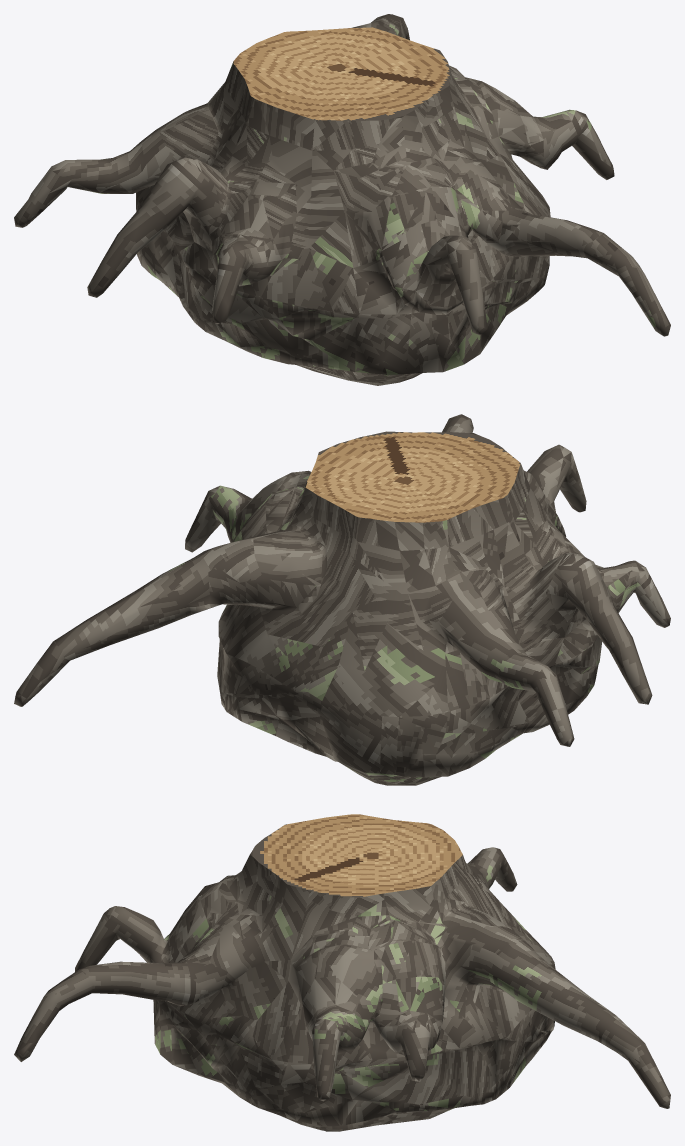
Rendered from environment_elm1_stump_v31.fbx.
3 renders of one model, top to bottom at view 1: azimuth 30°, elevation 25°; view 2: azimuth 150°, elevation 25°; view 3: azimuth 270°, elevation 25°, orthographic. The views are drawn at different scales.
Parts seen in each view (by area): view 1: environment_elm1_stump_v31; view 2: environment_elm1_stump_v31; view 3: environment_elm1_stump_v31.
Boxes of the visible parts, x1,y1,x2,y2 form: environment_elm1_stump_v31: (14,14,670,385); environment_elm1_stump_v31: (14,414,670,785); environment_elm1_stump_v31: (14,814,670,1131).
Size of the model in its own units: 498 by 247 by 627.
2 materials, 2 textured.
